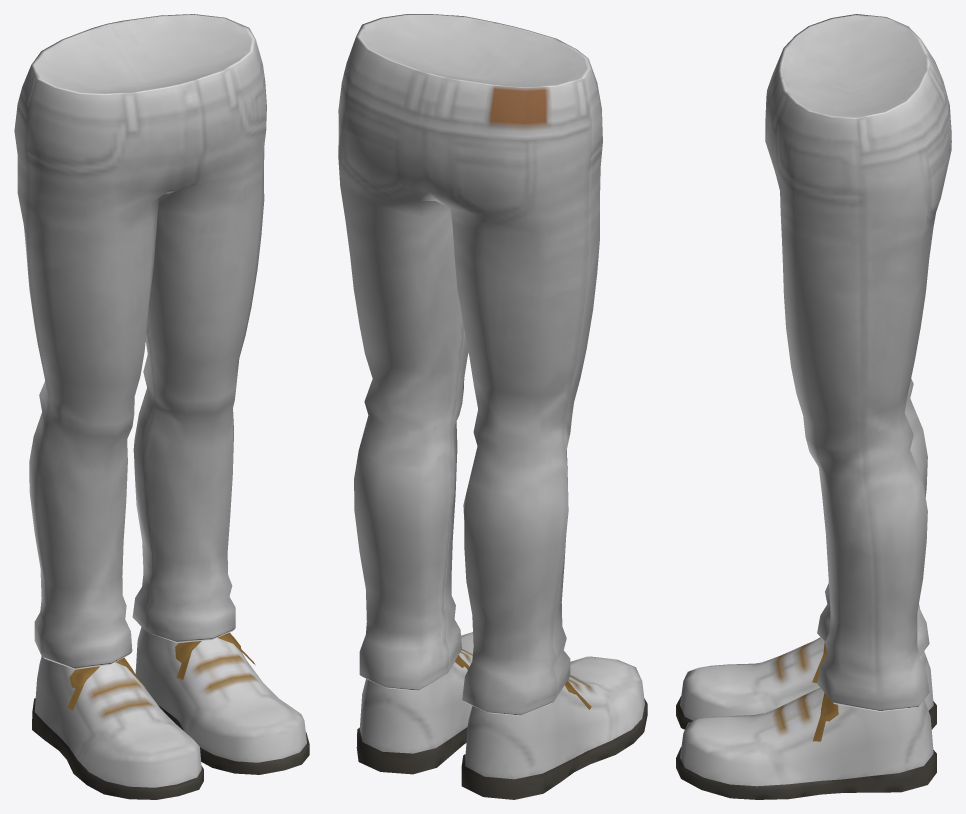
Rendered from tr0860_00_lwb03.gltf.
3 views of the same model, side by side, from view 1: azimuth 30°, elevation 25°; view 2: azimuth 150°, elevation 25°; view 3: azimuth 270°, elevation 25° (orthographic). The views are drawn at different scales.
Visible parts, largest first — view 1: lwb03_lowerbody_mesh_shape:lowerbody03, lwb03_shoes_mesh_shape:lowerbody03; view 2: lwb03_lowerbody_mesh_shape:lowerbody03, lwb03_shoes_mesh_shape:lowerbody03; view 3: lwb03_lowerbody_mesh_shape:lowerbody03, lwb03_shoes_mesh_shape:lowerbody03.
Boxes of the visible parts, box(x1,y1,x2,y2) form: lwb03_lowerbody_mesh_shape:lowerbody03: box(14, 14, 266, 669); lwb03_shoes_mesh_shape:lowerbody03: box(32, 627, 309, 799); lwb03_lowerbody_mesh_shape:lowerbody03: box(338, 14, 602, 715); lwb03_shoes_mesh_shape:lowerbody03: box(356, 632, 647, 799); lwb03_lowerbody_mesh_shape:lowerbody03: box(765, 14, 951, 711); lwb03_shoes_mesh_shape:lowerbody03: box(676, 637, 936, 799).
Size of what is drawn, in the model's own units: 0.3336 by 0.9331 by 0.3405.
Materials: 1 (1 with a texture image).
